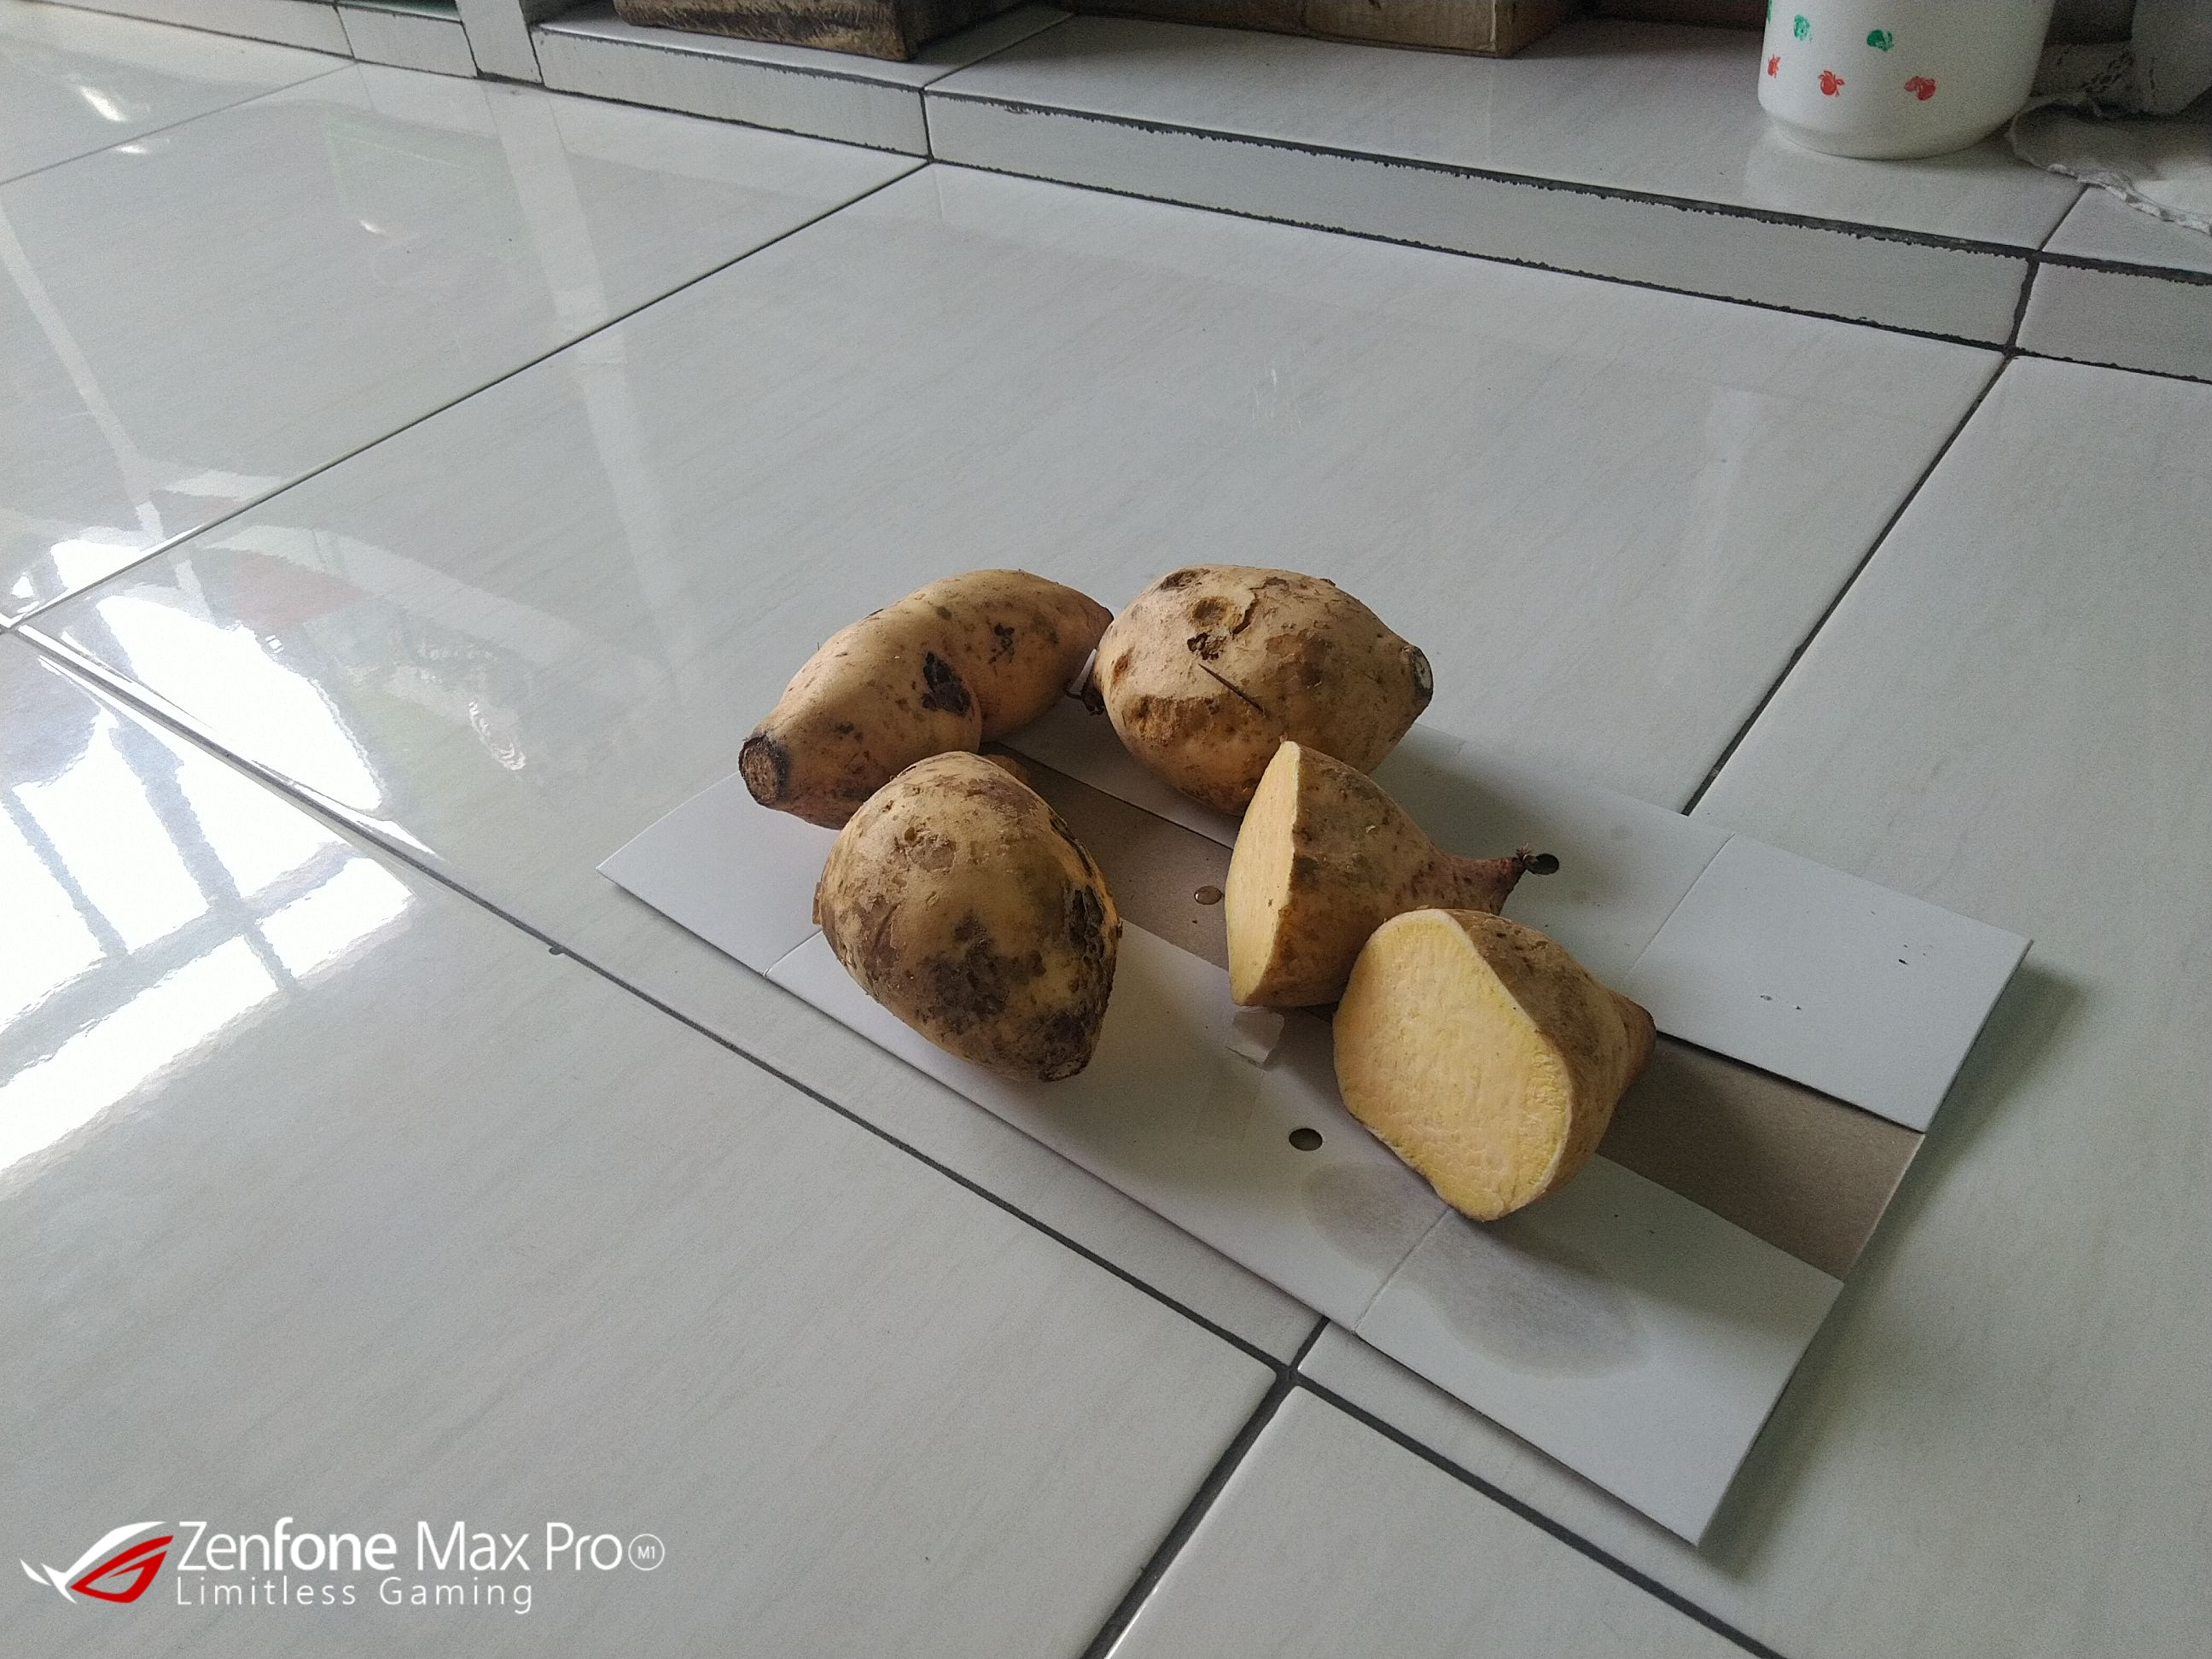ubi kuning: (1310, 903, 1676, 1227), (815, 749, 1134, 1110), (738, 563, 1111, 835), (1221, 735, 1566, 1016), (1092, 561, 1458, 809)
